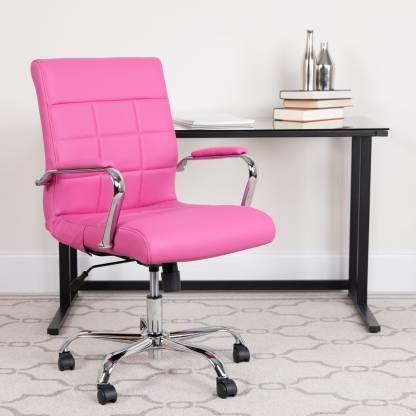chair: (24, 43, 283, 416)
table: (39, 122, 394, 343)
